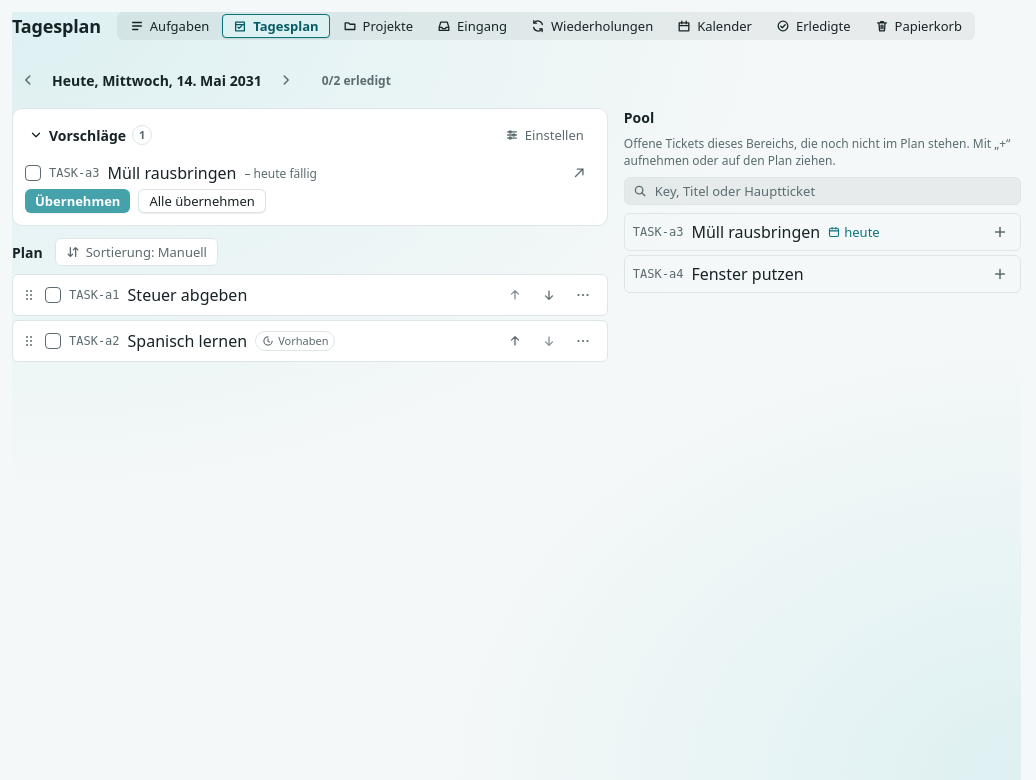
Test: entries of the plan › completes a task with its check mark and checks an ongoing project for the day only
Click the checkbox named "TASK-a1 erledigt" at (53, 295), box [45,287,61,303]
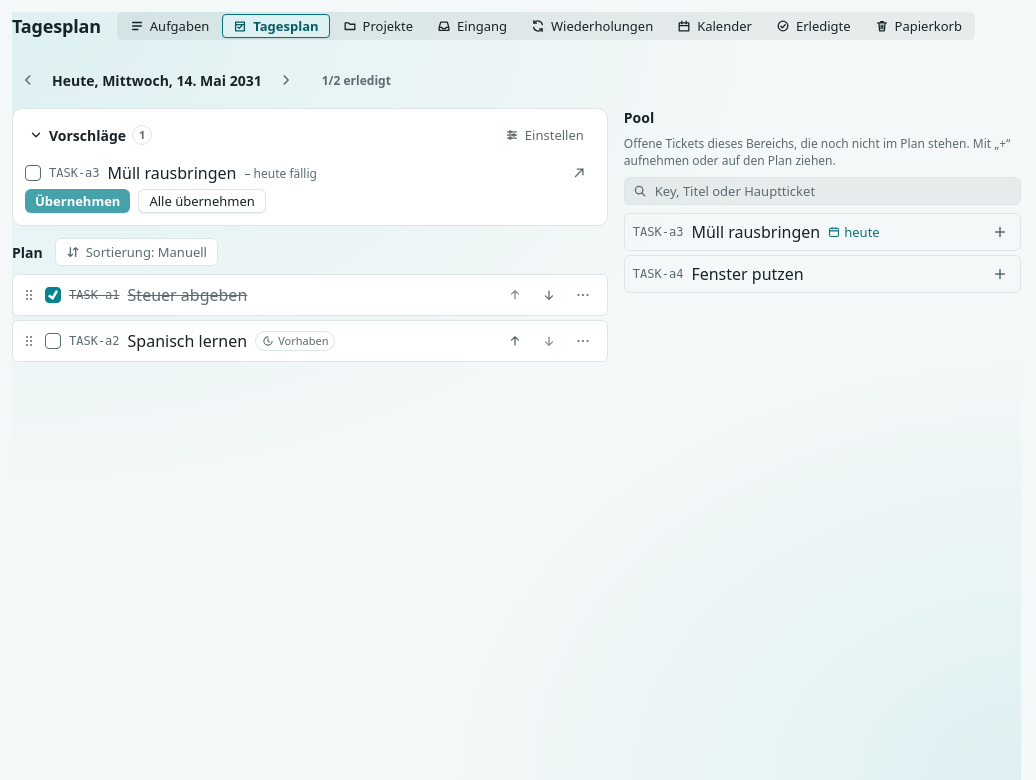
Check: the checkbox named "TASK-a1 erledigt" is checked, box [45,287,61,303]
Click the checkbox named "TASK-a2 für heute erledigt" at (53, 341), box [45,333,61,349]
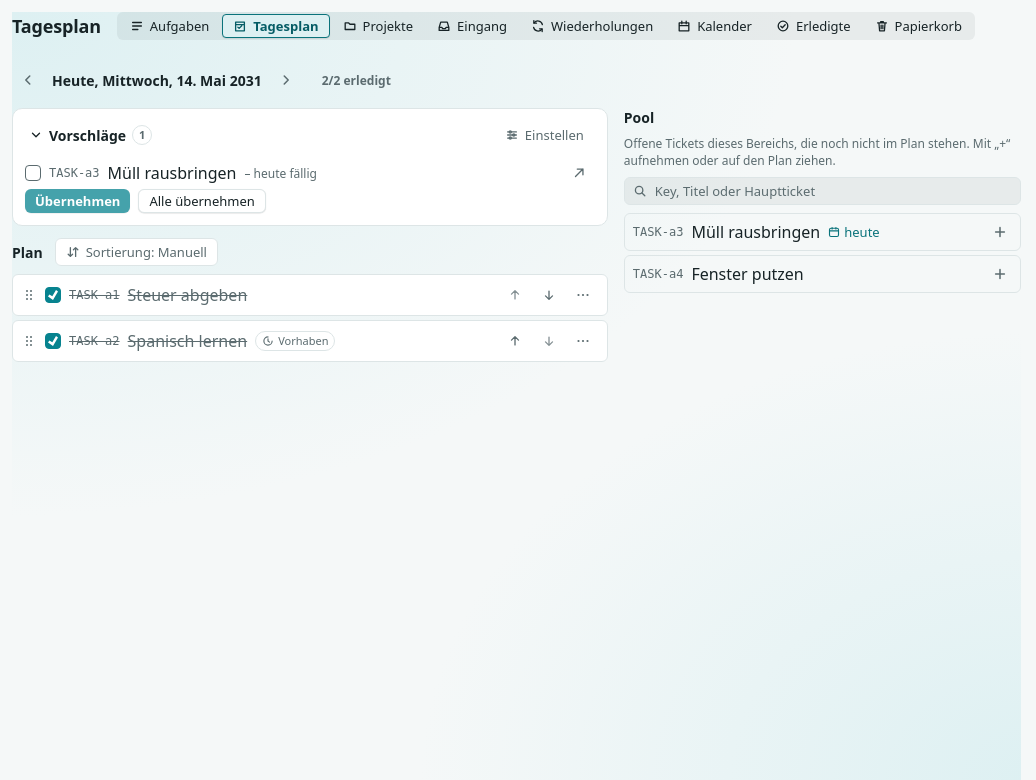
Check: the text "2/2 erledigt" is shown, box [322,72,391,88]
